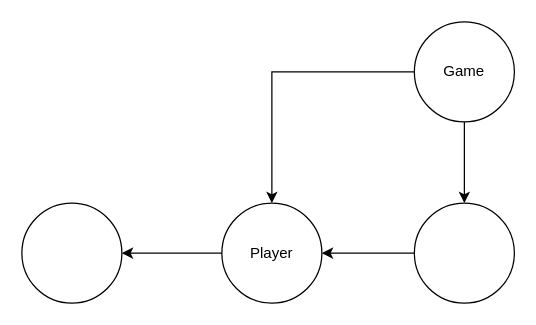
The diagram is 536 pixels wide and 325 high, and some of its shapes have lost their labels. Here are the shapes that lost their labels. From the top down, the centre of each, then its label:
At point (71, 252): "Sign".
At point (463, 252): "Bord".
